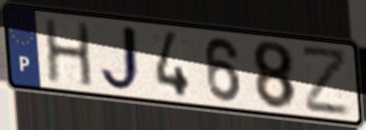4: (153, 29, 193, 100)
6: (203, 36, 242, 104)
8: (250, 38, 300, 112)
H: (42, 17, 96, 89)
J: (97, 22, 146, 96)
Z: (299, 46, 352, 118)
